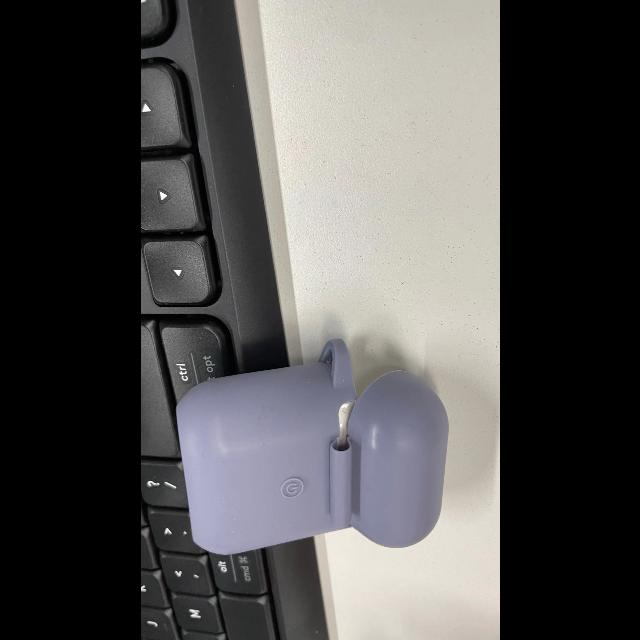airpods: (177, 339, 450, 556)
